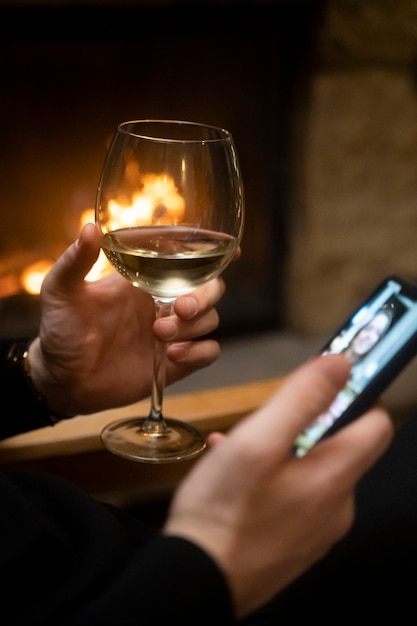alcohol: (96, 115, 246, 465)
